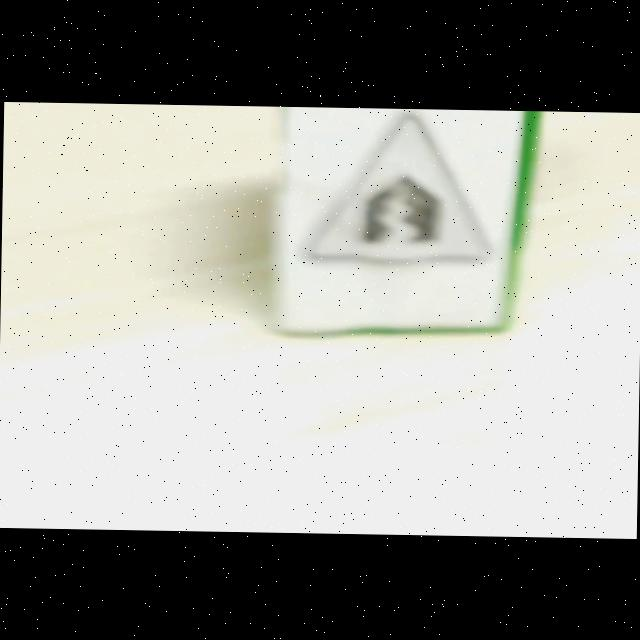Earthquake: (303, 113, 493, 265)
